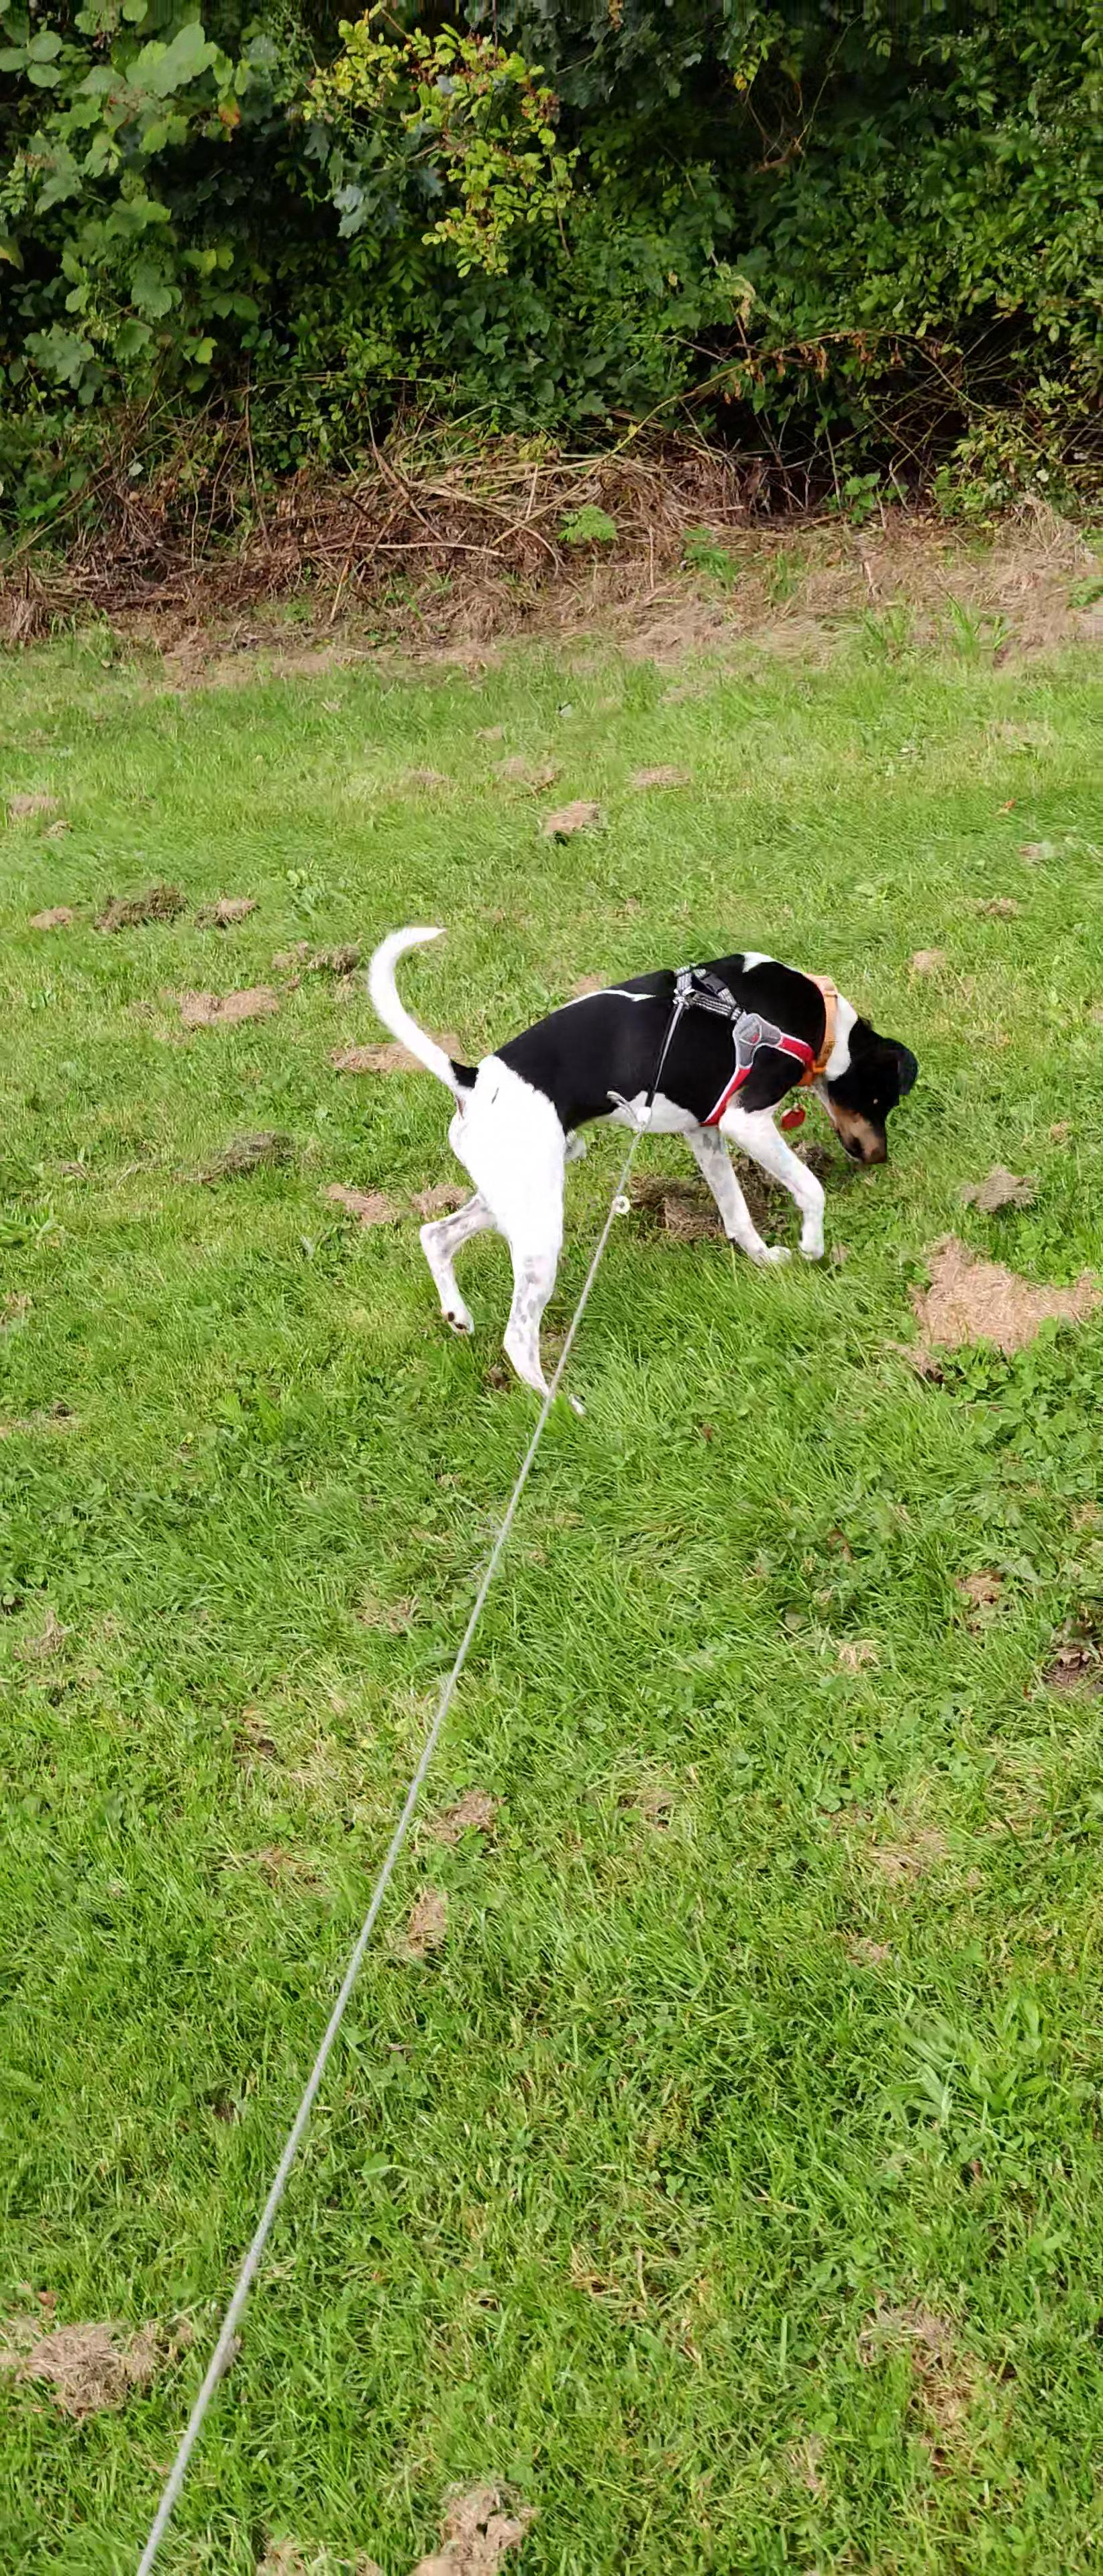Dog: (355, 918, 922, 1426)
